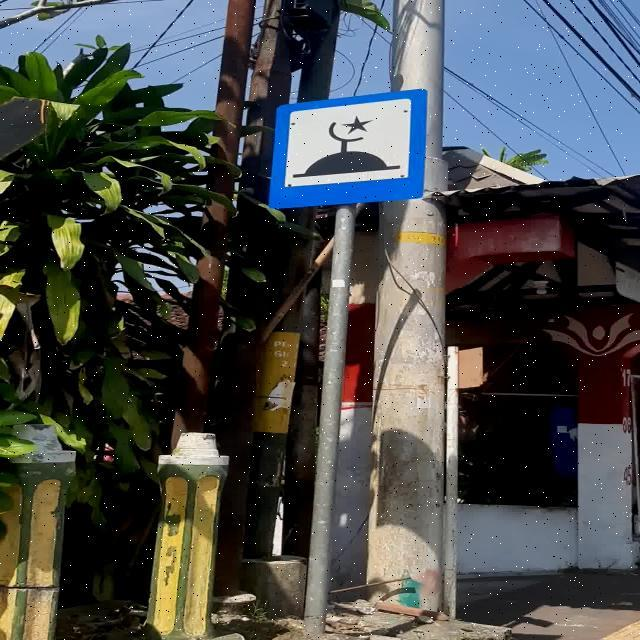Masjid: (268, 88, 428, 210)
